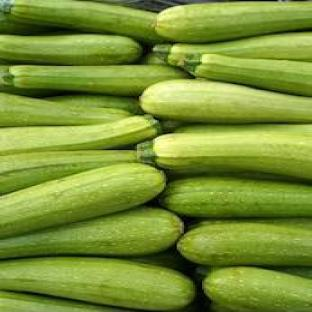Zucchini: (0, 164, 165, 237), (0, 257, 194, 310), (0, 208, 183, 259), (138, 131, 311, 178), (141, 80, 311, 123), (156, 2, 311, 43), (161, 177, 311, 218), (0, 116, 160, 154), (0, 150, 137, 194), (179, 221, 311, 266), (4, 65, 187, 95), (183, 54, 311, 95), (154, 33, 311, 65), (204, 267, 311, 311), (0, 93, 131, 127), (0, 34, 142, 64), (0, 291, 133, 311), (46, 94, 142, 113), (0, 64, 55, 97), (190, 218, 311, 230), (175, 124, 311, 134), (129, 249, 189, 271), (0, 12, 52, 34), (271, 267, 311, 279), (161, 120, 185, 133), (210, 304, 254, 311), (141, 53, 165, 64)
